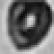correct: (3, 0, 52, 51)
